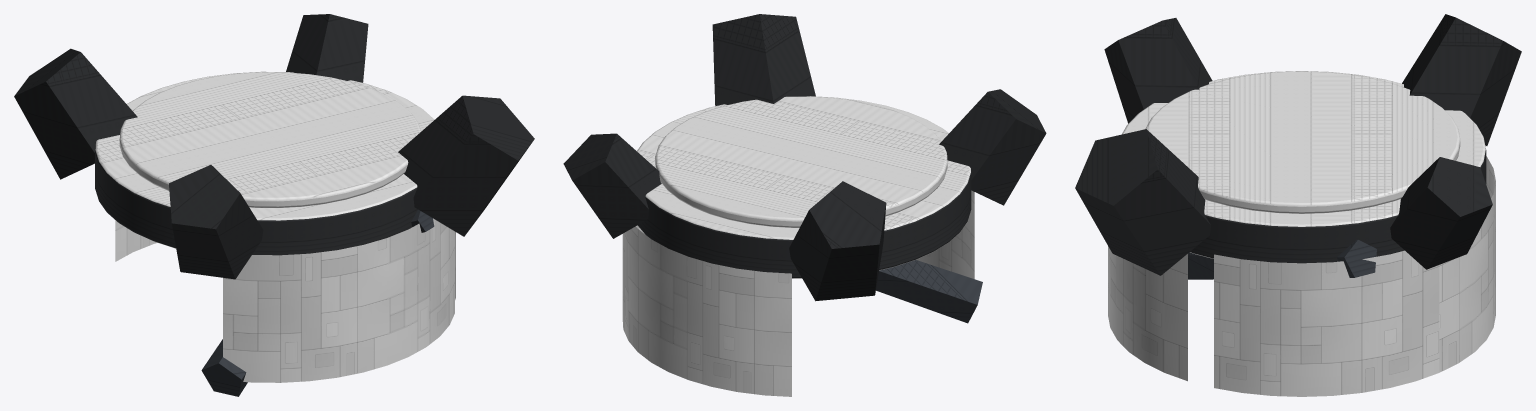
The model's file is deb_corvette_barbette_ring.glb.
3 renders of one model, left to right at view 1: azimuth 30°, elevation 25°; view 2: azimuth 150°, elevation 25°; view 3: azimuth 270°, elevation 25°, orthographic. The views are drawn at different scales.
Visible parts, largest first — view 1: TurretBRace, TurretBBarbette, TurretBRing, barbRim_rib1, barbRim_rib3, barbRim_rib0, barbRim_rib2, TurretBBarbette_xrib1a; view 2: TurretBRace, TurretBBarbette, TurretBRing, barbRim_rib3, barbRim_rib1, barbRim_rib0, barbRim_rib2, TurretBBarbette_xrib1a; view 3: TurretBBarbette, TurretBRace, barbRim_rib1, TurretBRing, barbRim_rib3, barbRim_rib2, barbRim_rib0, TurretBBarbette_xrib1a.
Part boxes in pixels (x1,y1,x2,y2): TurretBRace: (119, 72, 420, 207); TurretBBarbette: (115, 218, 455, 382); TurretBRing: (95, 71, 434, 255); barbRim_rib1: (398, 95, 534, 236); barbRim_rib3: (14, 48, 137, 179); barbRim_rib0: (169, 165, 263, 279); barbRim_rib2: (286, 14, 368, 82); TurretBBarbette_xrib1a: (201, 339, 247, 396); TurretBRace: (655, 96, 947, 227); TurretBBarbette: (622, 190, 974, 396); TurretBRing: (637, 96, 971, 278); barbRim_rib3: (789, 181, 886, 301); barbRim_rib1: (712, 14, 815, 105); barbRim_rib0: (939, 89, 1046, 205); barbRim_rib2: (563, 133, 661, 238); TurretBBarbette_xrib1a: (876, 260, 982, 323); TurretBBarbette: (1108, 156, 1495, 396); TurretBRace: (1145, 71, 1460, 213); barbRim_rib1: (1075, 129, 1210, 275); TurretBRing: (1122, 71, 1486, 263); barbRim_rib3: (1402, 14, 1521, 145); barbRim_rib2: (1390, 157, 1492, 269); barbRim_rib0: (1104, 18, 1212, 123); TurretBBarbette_xrib1a: (1188, 239, 1376, 279).
Bounding box in the file's own units: 10.43 × 7.15 × 11.
5 materials, 5 textured.
